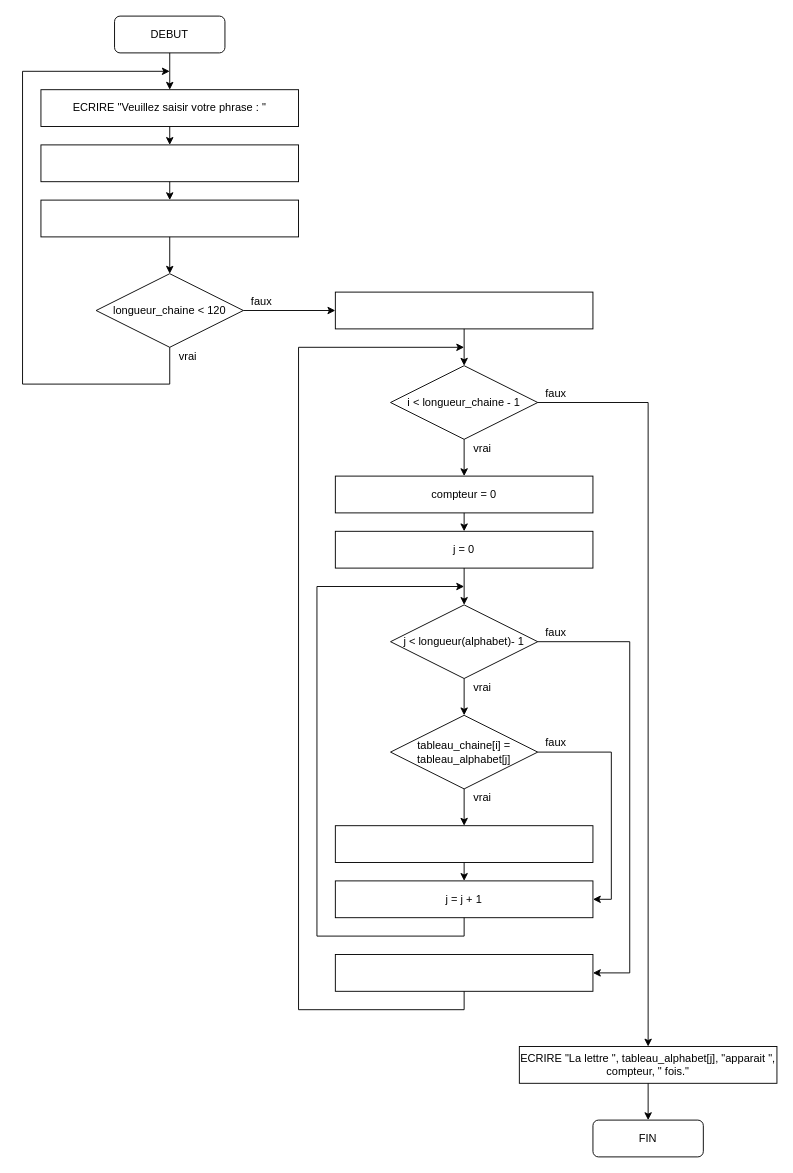
This 793x1173 diagram has some shape labels left out. Here are the shapes that lost their labels. From the top down, the centre of each, then its label:
At (169,163): "LIRE chaine".
At (169,218): "longueur_chaine = |chaine|".
At (463,310): "i = 0".
At (463,843): "compteur = compteur + 1".
At (463,972): "i = i + 1".
